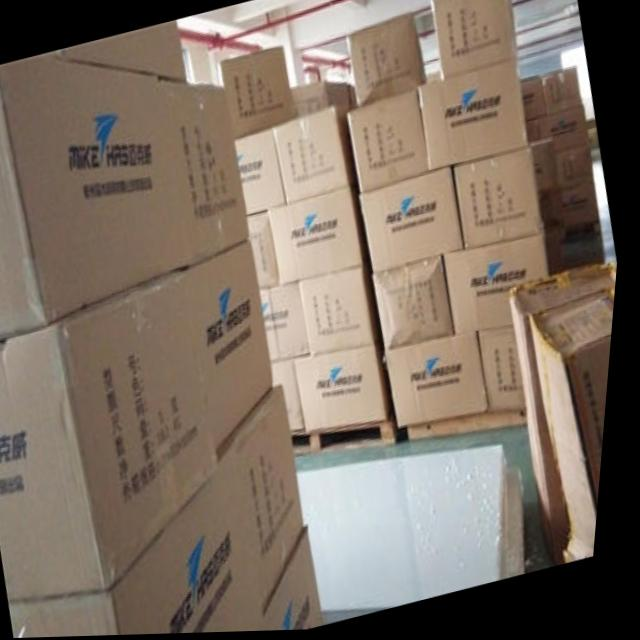box: (0, 271, 227, 600), (0, 53, 195, 338), (18, 447, 277, 638), (511, 263, 622, 563), (537, 292, 620, 564), (224, 386, 313, 613), (190, 240, 281, 447), (161, 79, 254, 265), (420, 60, 532, 172), (363, 169, 467, 275), (273, 184, 375, 288), (447, 237, 553, 337), (391, 333, 496, 431), (301, 334, 397, 435), (456, 149, 546, 250), (44, 20, 188, 81), (349, 91, 432, 196), (277, 109, 359, 206), (305, 259, 386, 356), (378, 258, 461, 352), (347, 12, 427, 107), (431, 0, 518, 80), (221, 47, 296, 139), (275, 527, 334, 633), (236, 129, 289, 218), (485, 329, 532, 417), (266, 285, 315, 364), (291, 83, 352, 135), (251, 215, 284, 290), (278, 362, 311, 433), (540, 109, 590, 154), (542, 68, 583, 116), (559, 145, 597, 192), (542, 193, 571, 247), (534, 141, 561, 196), (568, 203, 603, 245), (522, 77, 549, 123), (565, 184, 600, 211), (547, 232, 566, 278), (529, 120, 541, 145), (350, 85, 360, 109)
